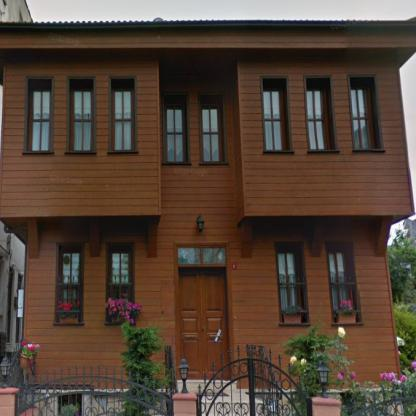door: (178, 272, 228, 378)
window: (30, 88, 50, 149), (306, 89, 326, 148), (351, 90, 370, 150), (73, 90, 92, 149), (264, 88, 282, 149), (279, 254, 299, 304), (202, 106, 220, 161), (166, 108, 184, 160), (114, 90, 130, 148), (178, 245, 226, 264), (60, 253, 80, 298), (329, 253, 345, 298), (111, 251, 129, 288)
